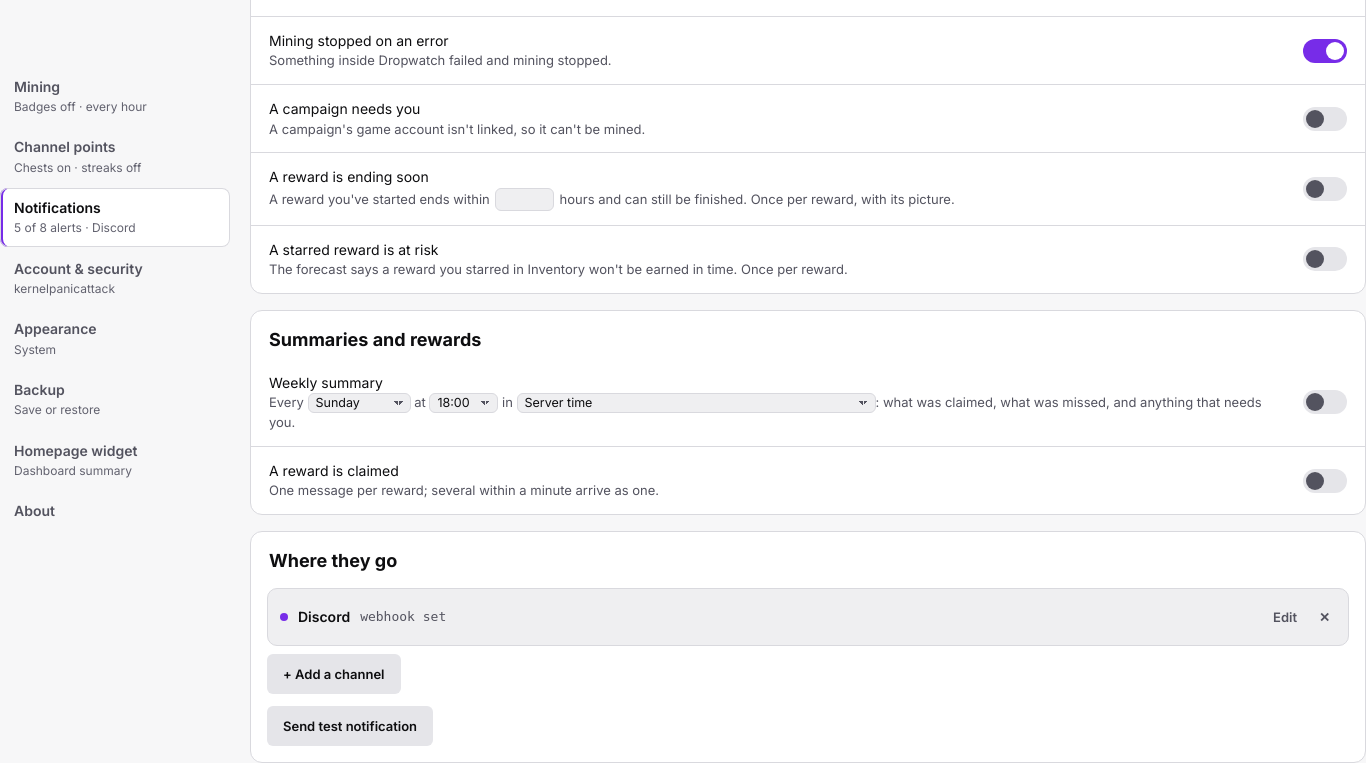
Test: removing a channel and sending a test
The width and height of the screenshot is (1366, 763).
(page scrolled)
Click the button "Send test notification" at (350, 726), box [267,706,433,746]
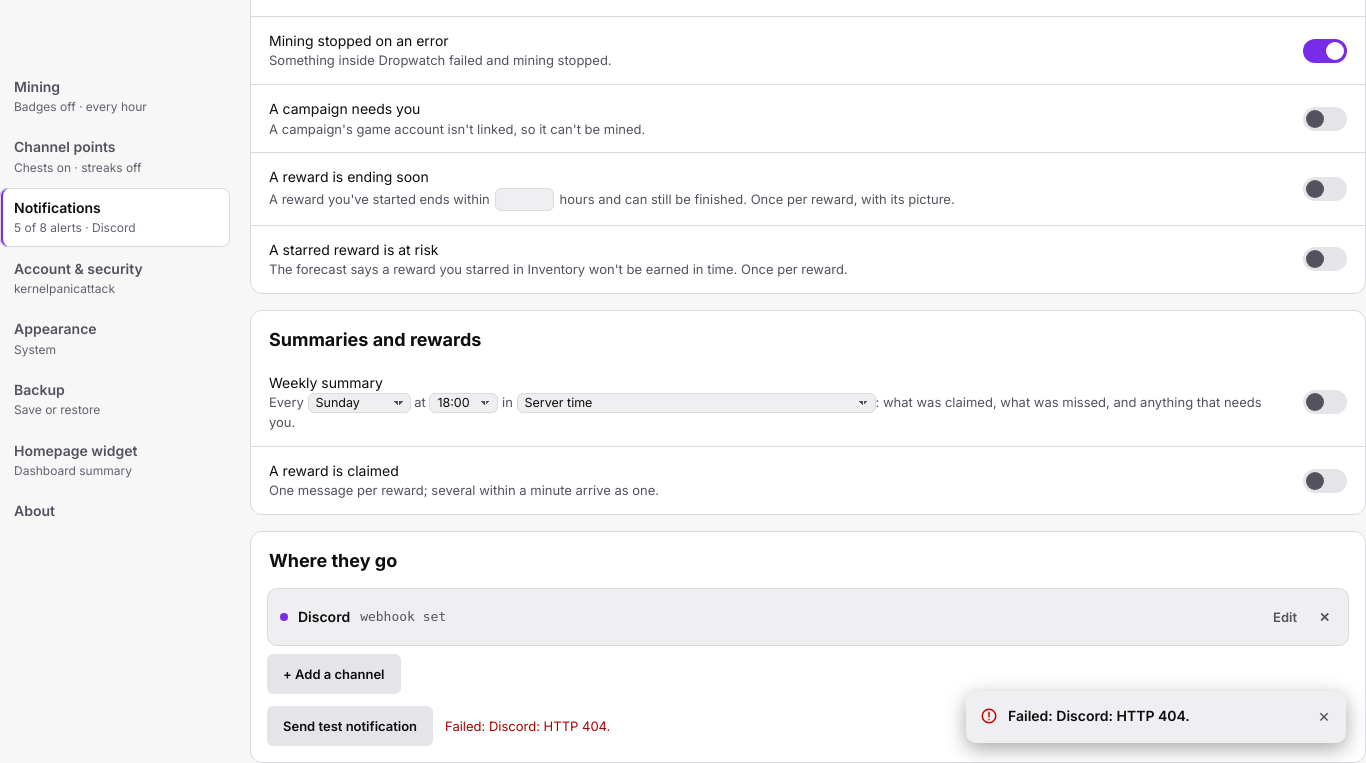
expect the text "Failed: Discord: HTTP 404." below "webhook set" is shown: met, box [445,718,610,734]
Click the button named "Remove Discord" at (1325, 617), box [1309,597,1340,637]
(page scrolled)
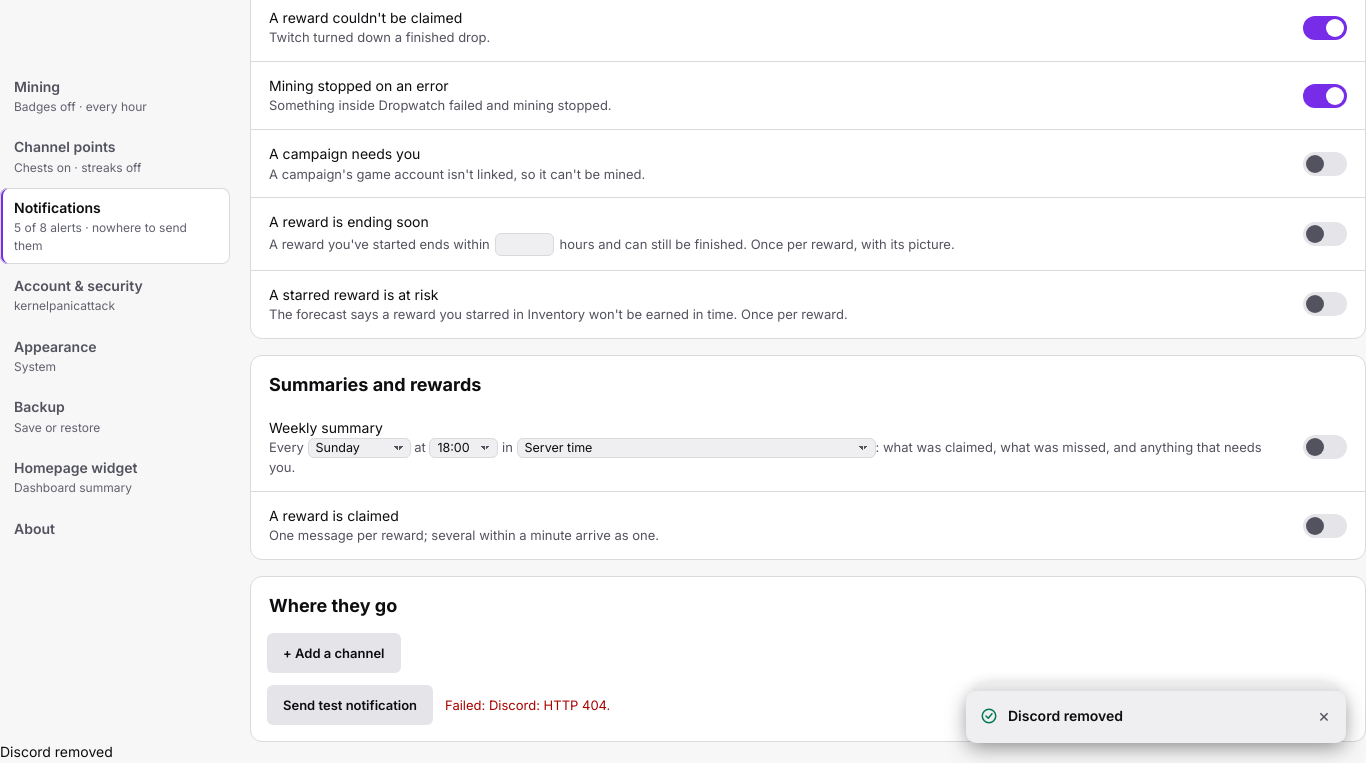
expect the text "webhook set" is gone: met
